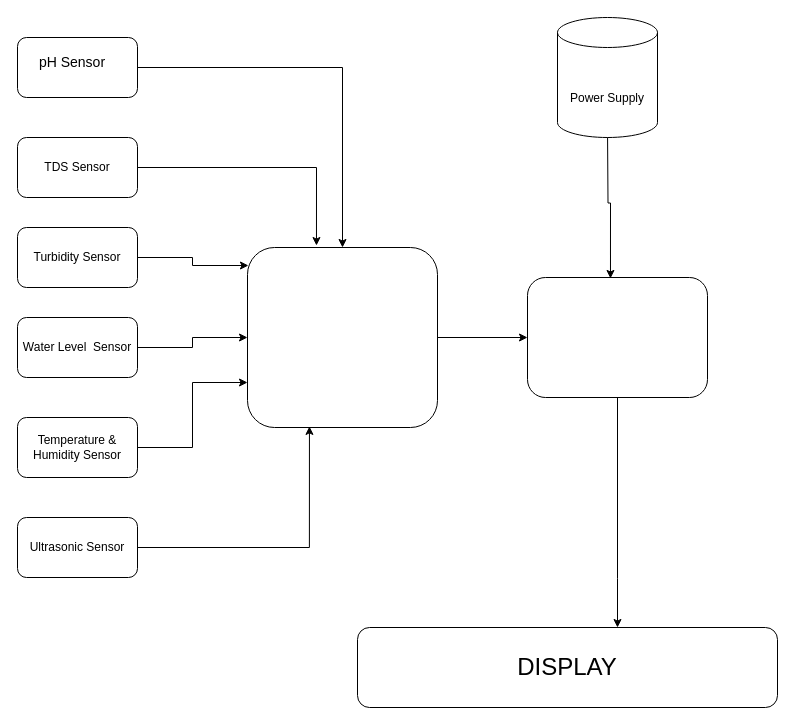
Some shapes in this 795 by 725 pixel diagram are drawn without their labels. Each missing label, with the centre of its shape:
"ARDUINO UNO" belongs at (x=617, y=337).
"BREAD BOARD" belongs at (x=342, y=337).
